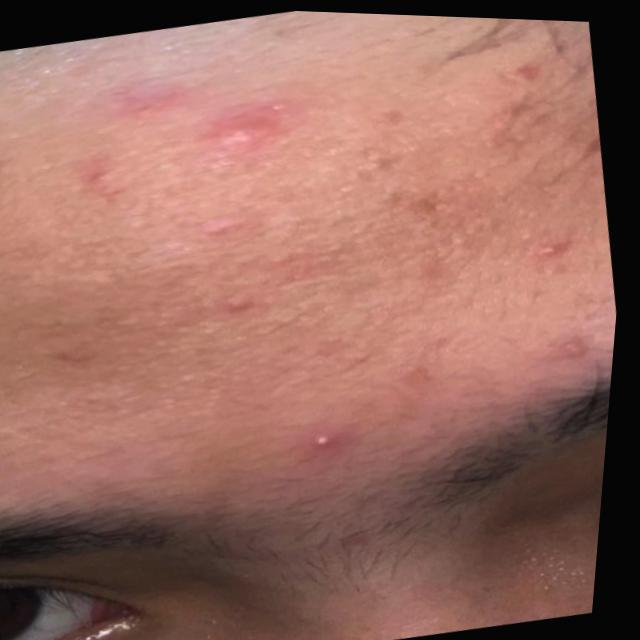papule: (53, 58, 311, 214)
pustule: (528, 226, 568, 268), (309, 415, 346, 450)
